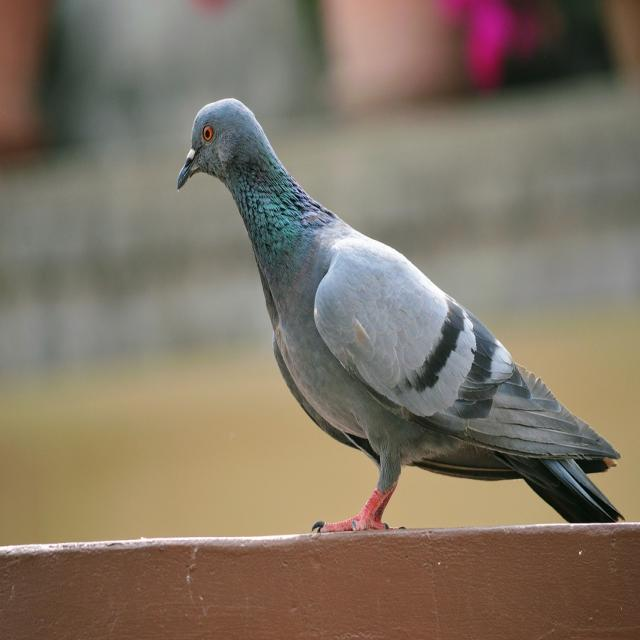pegion: (131, 62, 634, 574)
